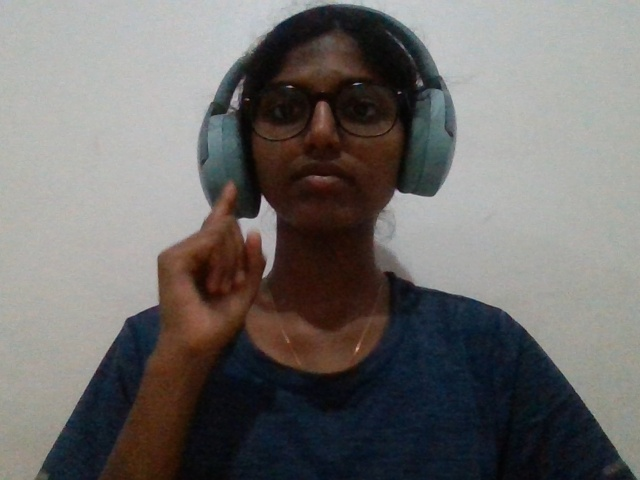You: (124, 171, 290, 410)
